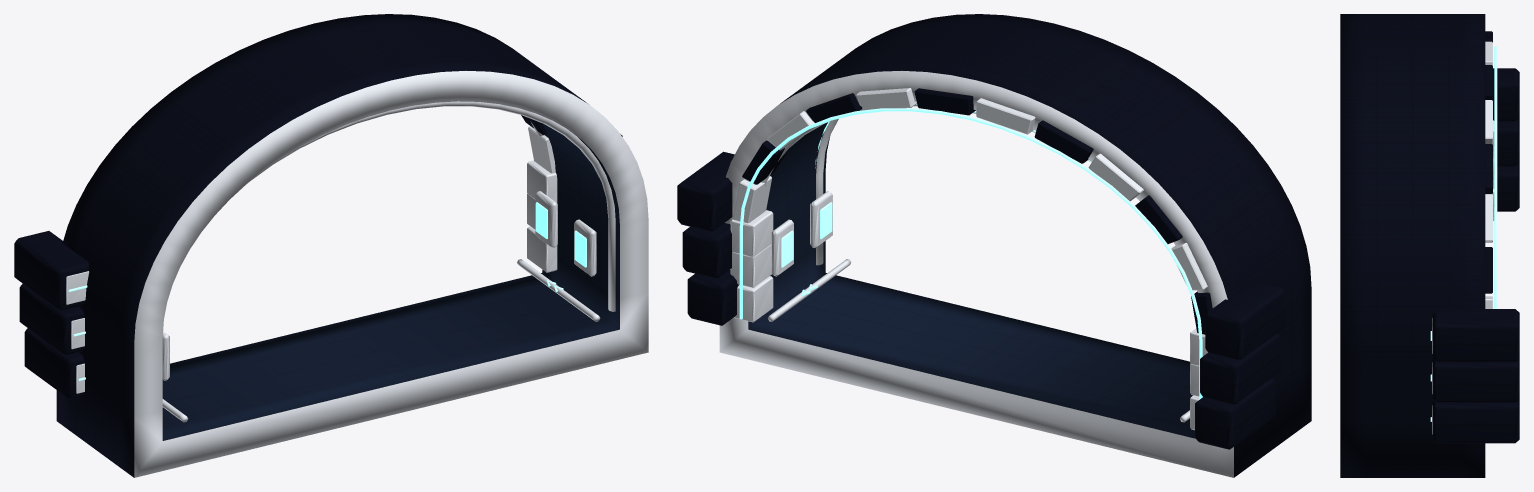
Rendered from portal_exit_lod1.glb.
3 views of the same model, side by side, from view 1: azimuth 30°, elevation 25°; view 2: azimuth 150°, elevation 25°; view 3: azimuth 270°, elevation 25° (orthographic). The views are drawn at different scales.
Parts seen in each view (by area): view 1: TunnelGeometry.001; view 2: TunnelGeometry.001; view 3: TunnelGeometry.001.
Part boxes in pixels (<box>): TunnelGeometry.001: <box>14,14,648,477</box>; TunnelGeometry.001: <box>677,14,1311,477</box>; TunnelGeometry.001: <box>1340,14,1519,477</box>.
Bounding box in the file's own units: 16.85 × 9.52 × 4.95.
4 materials, 2 textured.
